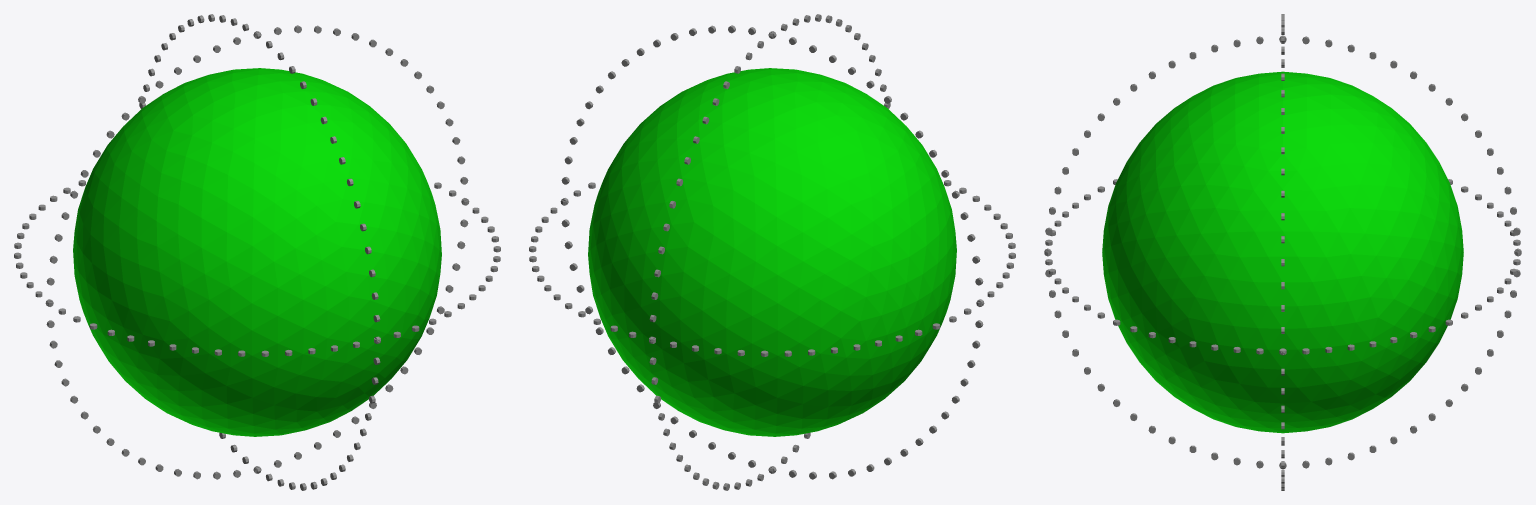
File: echo_orb_final_fixed.glb
The picture shows the model from 3 angles, left to right: view 1: azimuth 30°, elevation 25°; view 2: azimuth 150°, elevation 25°; view 3: azimuth 270°, elevation 25°; orthographic projection. The views are drawn at different scales.
Visible parts, largest first — view 1: world; view 2: world; view 3: world.
Part boxes in pixels (left/top/right/bottom): world: left=14, top=14, right=500, bottom=490; world: left=529, top=14, right=1015, bottom=490; world: left=1044, top=14, right=1521, bottom=490.
Size of the model in its own units: 2.64 by 2.64 by 2.64.
